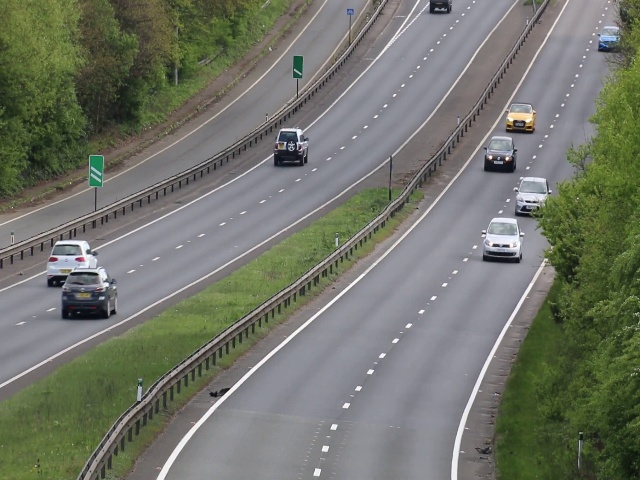car: (59, 266, 117, 319), (49, 241, 96, 283), (484, 217, 520, 261), (275, 126, 309, 166), (515, 176, 549, 214), (504, 100, 537, 134), (485, 135, 516, 171), (598, 26, 623, 53)
